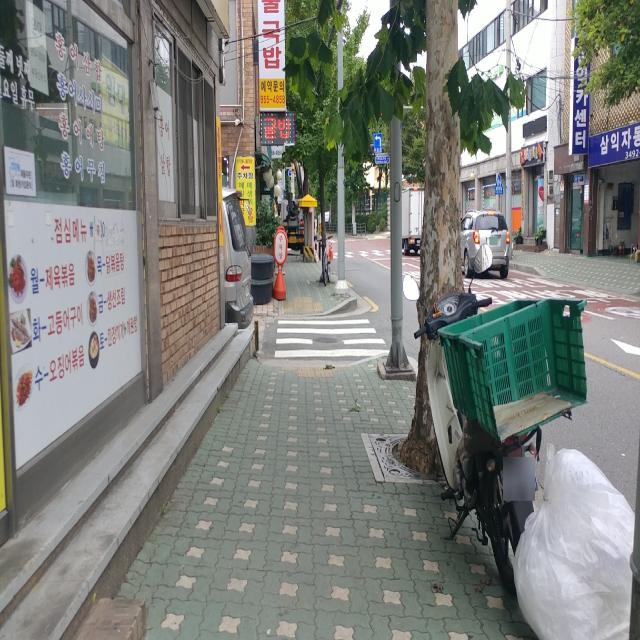횡단보도: (274, 318, 390, 359)
